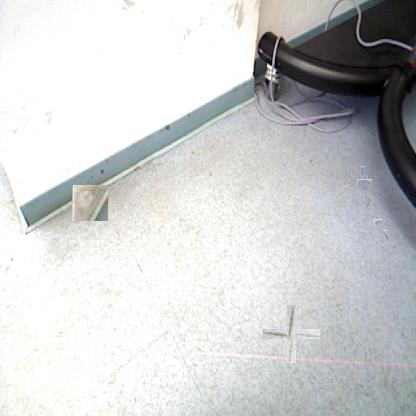mark: (73, 186, 108, 221), (274, 317, 308, 351), (359, 177, 370, 188), (366, 196, 374, 210), (382, 230, 388, 241), (375, 218, 382, 225), (207, 170, 213, 178), (392, 243, 398, 250), (306, 158, 312, 164), (188, 149, 194, 155), (361, 166, 365, 175)
